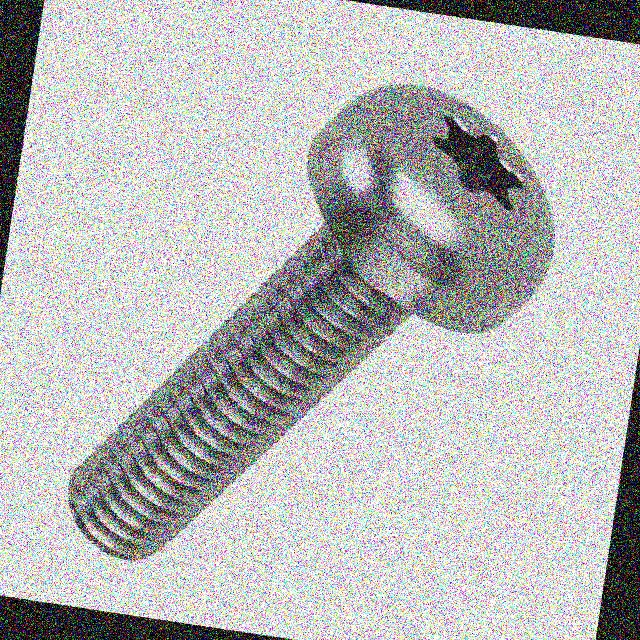torx: (282, 48, 582, 355)
